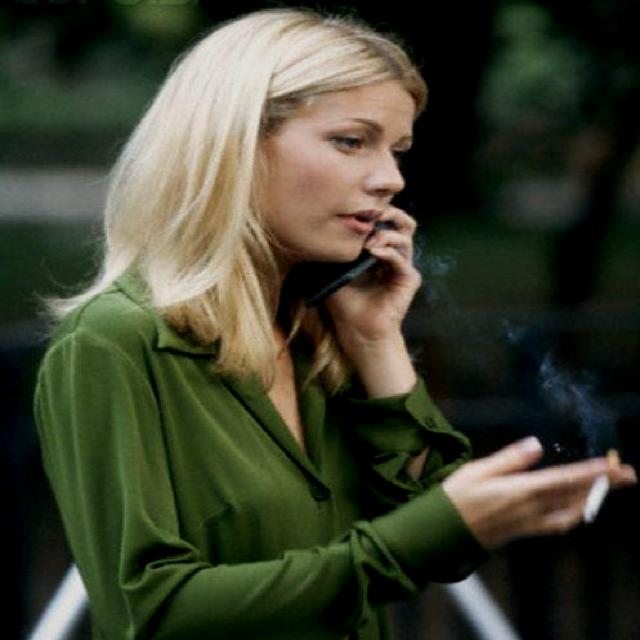cigarette: (537, 452, 639, 564)
